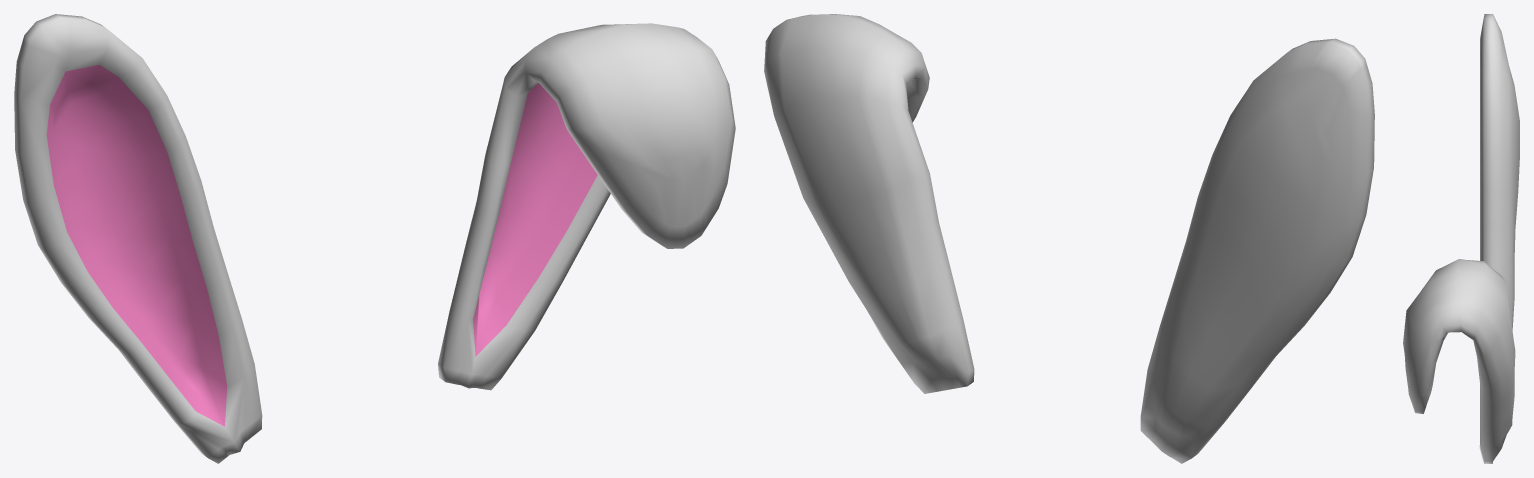
Rendered from ears.glb.
3 views of the same model, side by side, from view 1: azimuth 30°, elevation 25°; view 2: azimuth 150°, elevation 25°; view 3: azimuth 270°, elevation 25° (orthographic). The views are drawn at different scales.
Parts seen in each view (by area): view 1: BunnyEars; view 2: BunnyEars; view 3: BunnyEars.
Boxes of the visible parts, x1,y1,x2,y2 form: BunnyEars: [14, 14, 735, 463]; BunnyEars: [764, 14, 1374, 463]; BunnyEars: [1403, 14, 1519, 463].
Bounding box in the file's own units: 169 × 117 × 39.41.
